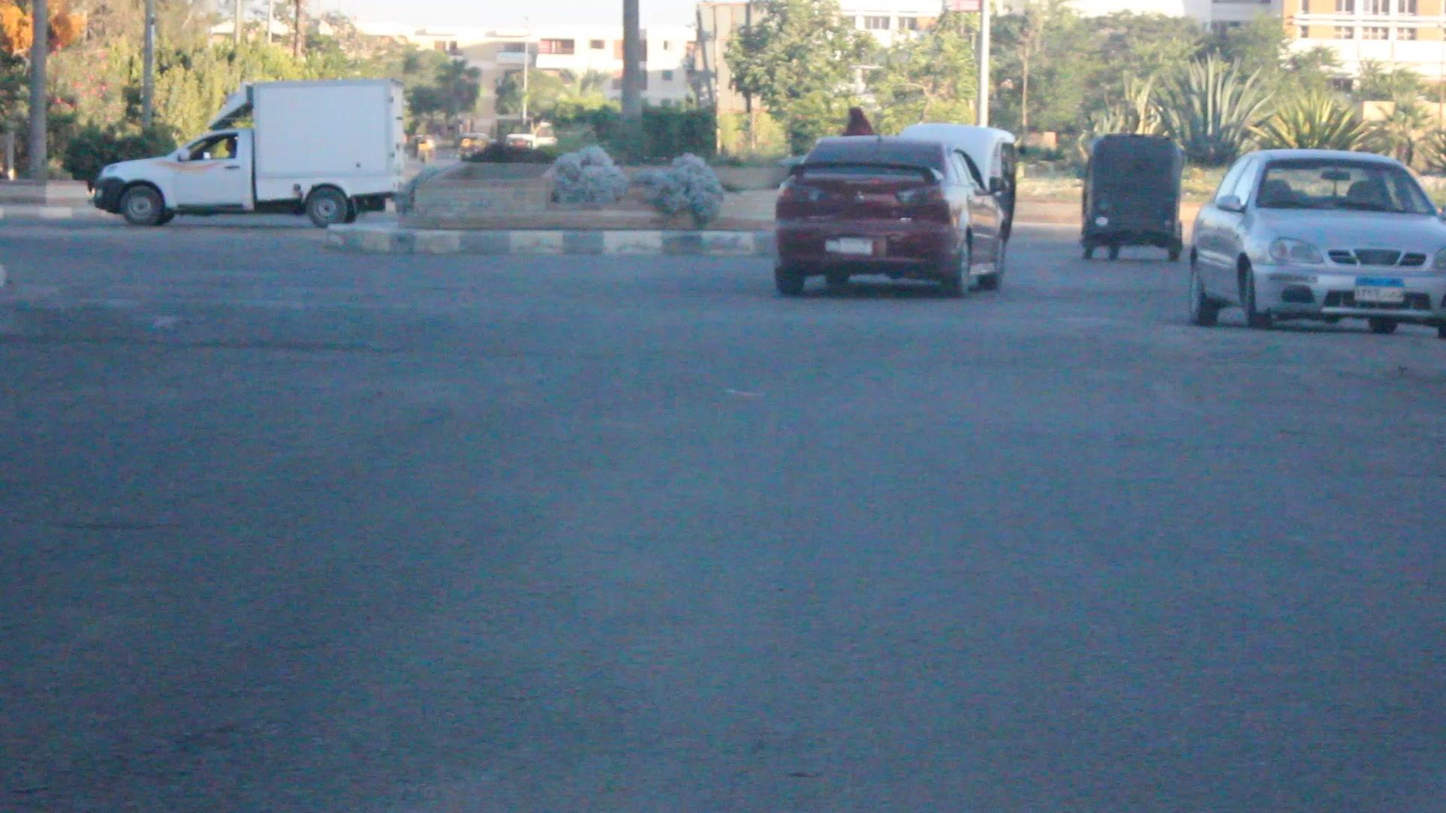Bump: (0, 275, 1446, 414)
